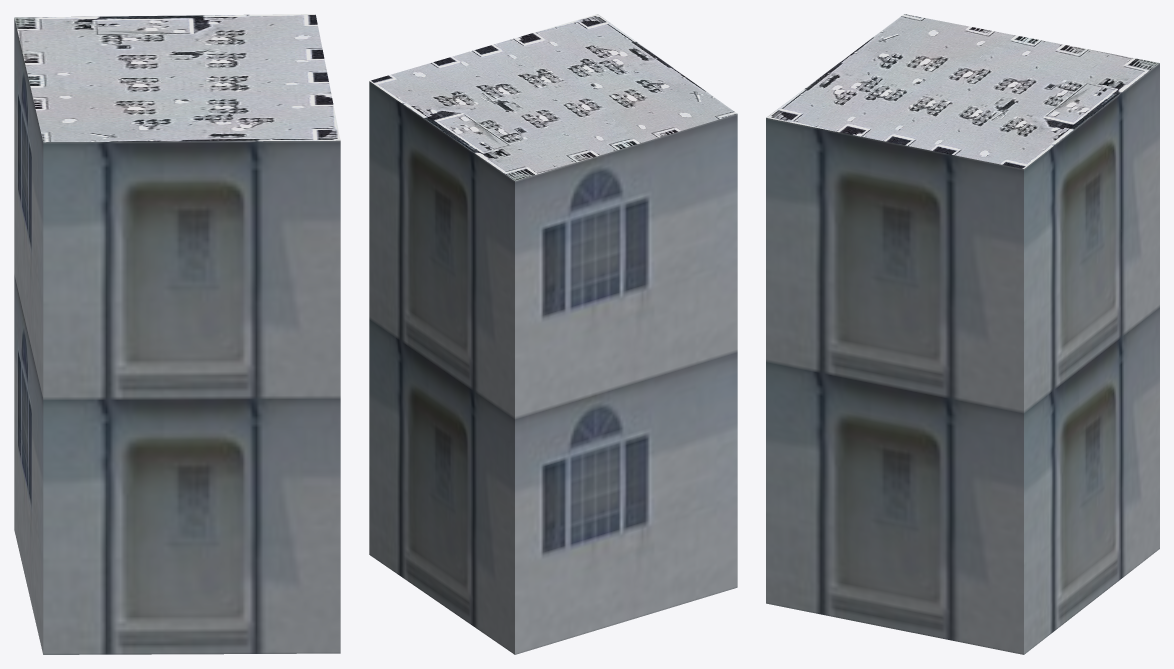
The model's file is ResTex__807.fbx.
The picture shows the model from 3 angles, left to right: view 1: azimuth 30°, elevation 25°; view 2: azimuth 150°, elevation 25°; view 3: azimuth 270°, elevation 25°; orthographic projection. The views are drawn at different scales.
Parts seen in each view (by area): view 1: CityEngineMaterial_17_m, CityEngineMaterial_8_m; view 2: CityEngineMaterial_17_m, CityEngineMaterial_8_m; view 3: CityEngineMaterial_17_m, CityEngineMaterial_8_m.
Part boxes in pixels (<box>): CityEngineMaterial_17_m: <box>14,18,340,654</box>; CityEngineMaterial_8_m: <box>14,14,340,142</box>; CityEngineMaterial_17_m: <box>369,81,737,654</box>; CityEngineMaterial_8_m: <box>369,14,737,180</box>; CityEngineMaterial_17_m: <box>766,63,1159,654</box>; CityEngineMaterial_8_m: <box>766,14,1159,168</box>.
Size of the model in its own units: 4.11 by 6 by 4.41.
Materials: 2 (2 with a texture image).
